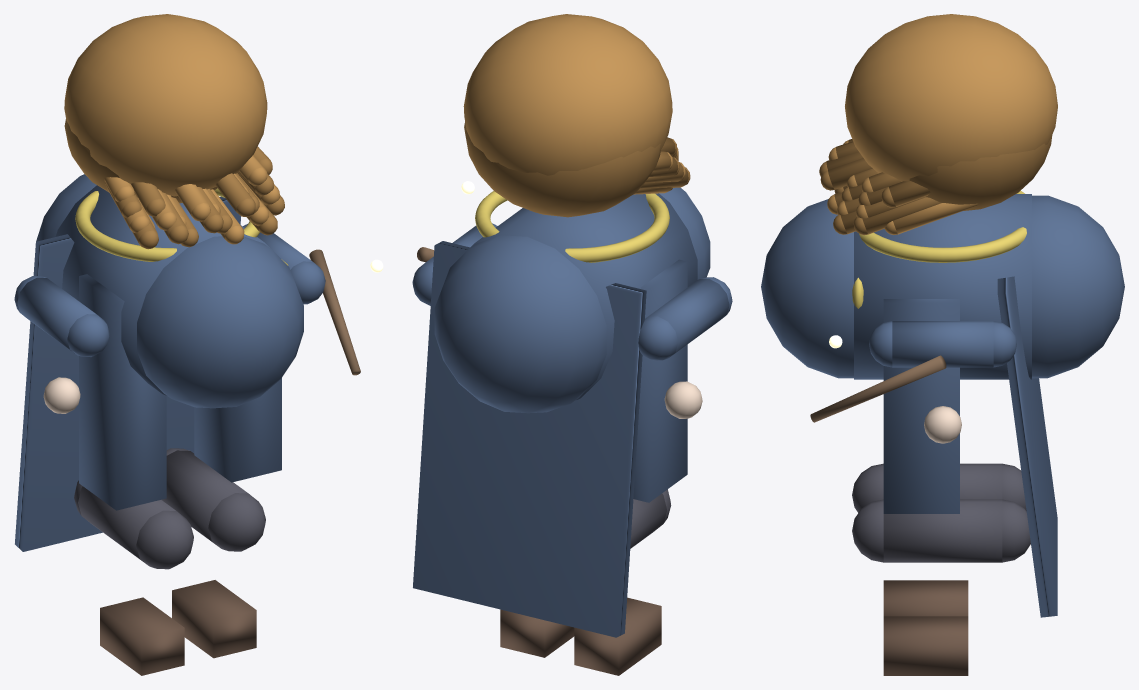
File: hermione.glb
3 renders of one model, left to right at view 1: azimuth 30°, elevation 25°; view 2: azimuth 150°, elevation 25°; view 3: azimuth 270°, elevation 25°, orthographic. The views are drawn at different scales.
Parts seen in each view (by area): view 1: crown, torso_top, cloak, robe_panel_l, torso_body, robe_panel_r, boot, boot.001, thigh_body.001, upperL_body, thigh_top.001, thigh_top (+11 smaller); view 2: cloak, crown, torso_bot, torso_body, robe_panel_l, volume, boot, upperL_body, trim, boot.001, torso_top, upperL_bot (+3 smaller); view 3: crown, torso_body, torso_bot, torso_top, robe_panel_r, cloak, thigh_body.001, boot.001, volume, upperR_body, boot, trim (+13 smaller).
Part boxes in pixels (x1=…): crown: x1=64, y1=14, x2=267, y2=196; torso_top: x1=137, y1=236, x2=303, y2=408; cloak: x1=15, y1=196, x2=240, y2=551; robe_panel_l: x1=79, y1=274, x2=166, y2=510; torso_body: x1=55, y1=185, x2=269, y2=395; robe_panel_r: x1=194, y1=378, x2=281, y2=482; boot: x1=100, y1=597, x2=184, y2=675; boot.001: x1=172, y1=580, x2=256, y2=658; thigh_body.001: x1=161, y1=450, x2=248, y2=546; upperL_body: x1=17, y1=277, x2=95, y2=353; thigh_top.001: x1=208, y1=493, x2=265, y2=551; thigh_top: x1=136, y1=510, x2=193, y2=569; cloak: x1=413, y1=241, x2=646, y2=637; crown: x1=463, y1=14, x2=672, y2=175; torso_bot: x1=434, y1=235, x2=606, y2=413; torso_body: x1=469, y1=193, x2=697, y2=399; robe_panel_l: x1=633, y1=259, x2=687, y2=502; volume: x1=464, y1=122, x2=660, y2=217; boot: x1=574, y1=597, x2=661, y2=675; upperL_body: x1=648, y1=279, x2=729, y2=356; trim: x1=475, y1=191, x2=669, y2=262; boot.001: x1=500, y1=609, x2=574, y2=657; torso_top: x1=659, y1=187, x2=710, y2=279; upperL_bot: x1=638, y1=316, x2=678, y2=360; crown: x1=845, y1=14, x2=1057, y2=181; torso_body: x1=854, y1=194, x2=1031, y2=379; torso_bot: x1=1032, y1=195, x2=1124, y2=378; torso_top: x1=761, y1=199, x2=853, y2=378; robe_panel_r: x1=883, y1=299, x2=959, y2=513; cloak: x1=997, y1=276, x2=1057, y2=617; thigh_body.001: x1=883, y1=499, x2=1002, y2=562; boot.001: x1=883, y1=616, x2=968, y2=675; volume: x1=909, y1=135, x2=1052, y2=210; upperR_body: x1=892, y1=321, x2=993, y2=367; boot: x1=883, y1=580, x2=968, y2=616; trim: x1=859, y1=190, x2=1026, y2=262.
Bounding box in the file's own units: 0.7987 × 1.63 × 0.86.
